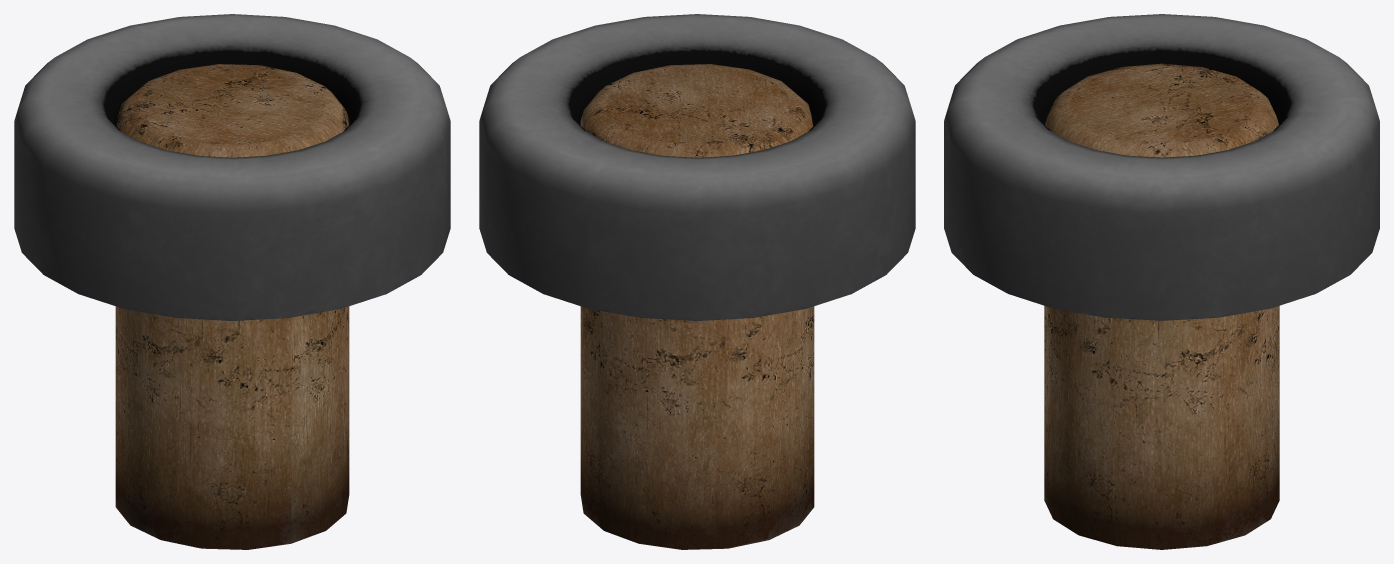
Rendered from Obstacle-26.fbx.
3 views of the same model, side by side, from view 1: azimuth 30°, elevation 25°; view 2: azimuth 150°, elevation 25°; view 3: azimuth 270°, elevation 25° (orthographic).
Parts seen in each view (by area): view 1: Obstacle-26-Holder, Obstacle-26; view 2: Obstacle-26-Holder, Obstacle-26; view 3: Obstacle-26-Holder, Obstacle-26.
Boxes of the visible parts, left/top/right/bottom form: Obstacle-26-Holder: left=14, top=14, right=450, bottom=320; Obstacle-26: left=115, top=64, right=349, bottom=549; Obstacle-26-Holder: left=479, top=14, right=915, bottom=320; Obstacle-26: left=580, top=64, right=814, bottom=549; Obstacle-26-Holder: left=944, top=14, right=1379, bottom=320; Obstacle-26: left=1044, top=63, right=1279, bottom=549.
Bounding box in the file's own units: 0.75 × 0.7645 × 0.75.
